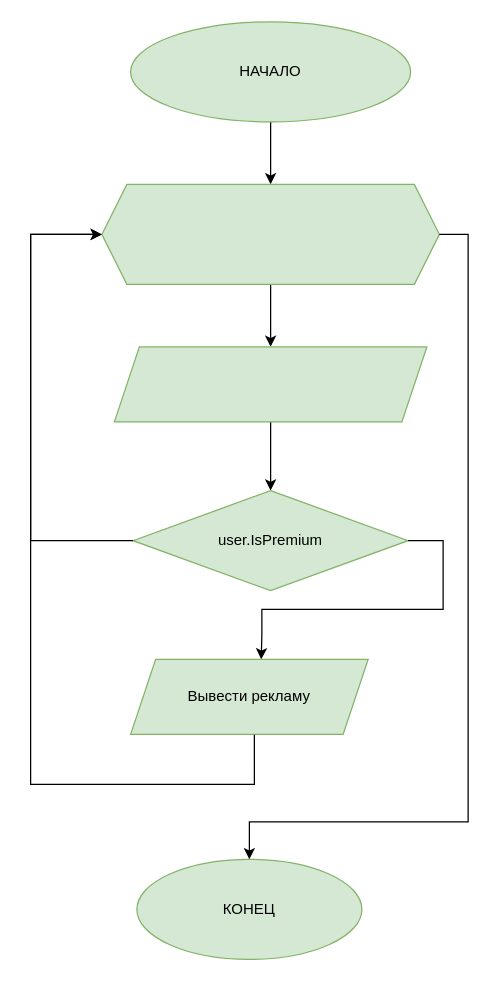
This 500x981 diagram has some shape labels left out. The box of each missing label's shape, as (x1, y1, x2, y2) in pixels:
foreach (var user in users): (101, 183, 439, 284)
Вывести приветствие для user: (113, 346, 427, 422)
